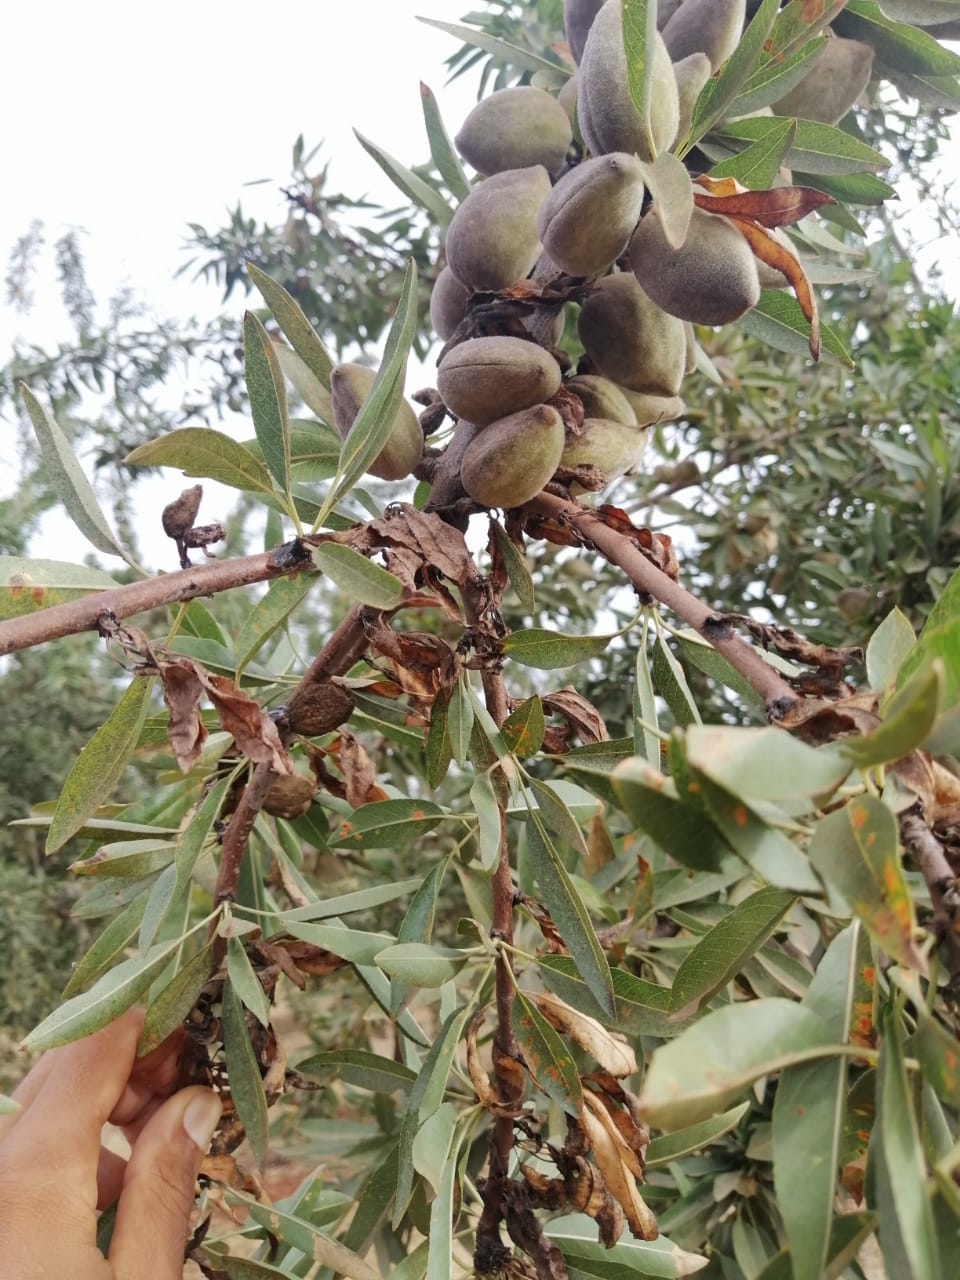scolytes: (582, 502, 960, 840), (101, 488, 490, 780), (461, 929, 663, 1280)
